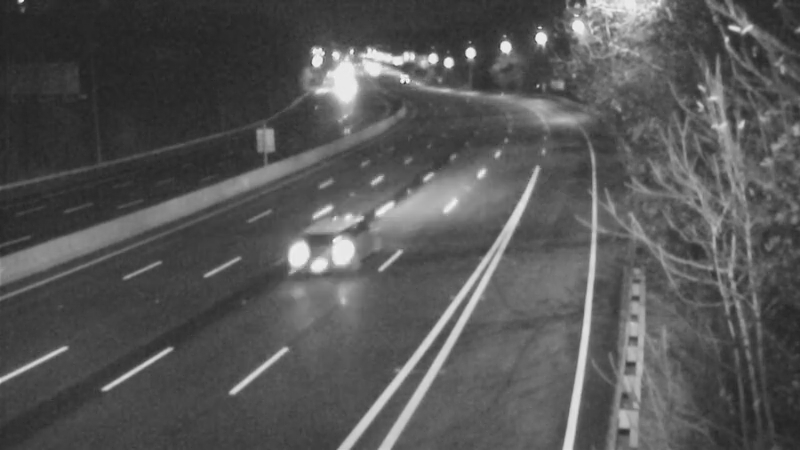vehicle: (296, 213, 376, 293), (382, 52, 432, 102)
